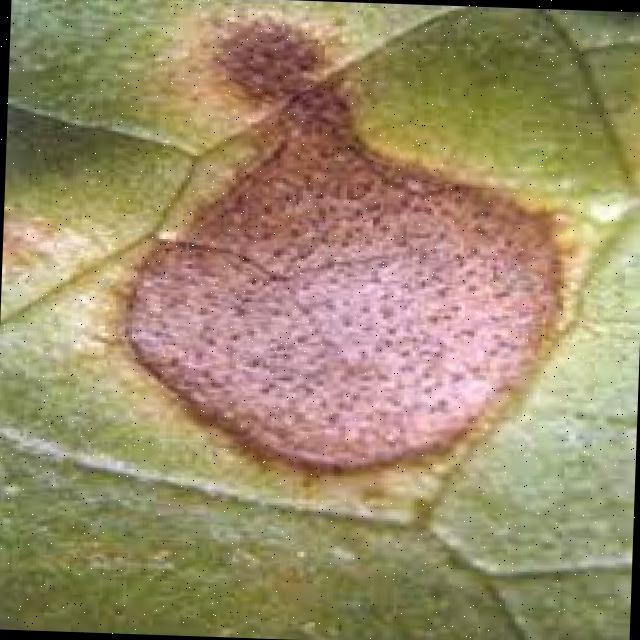Septoria_Blight: (87, 3, 603, 534)
